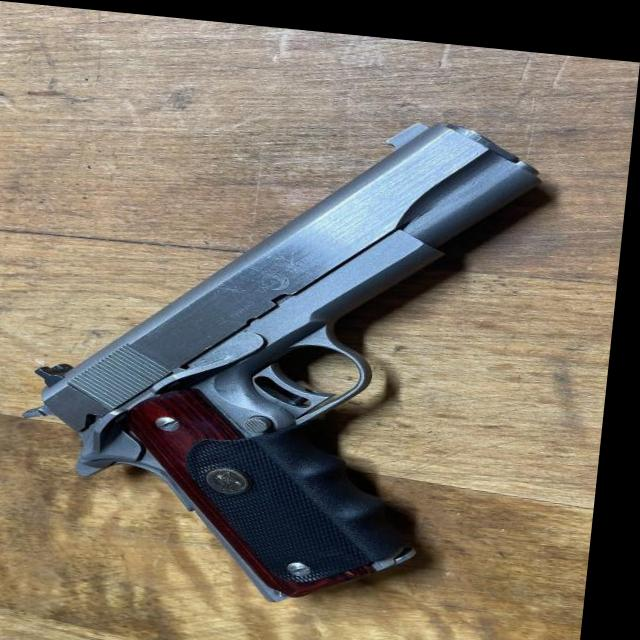handgun: (23, 82, 548, 612)
